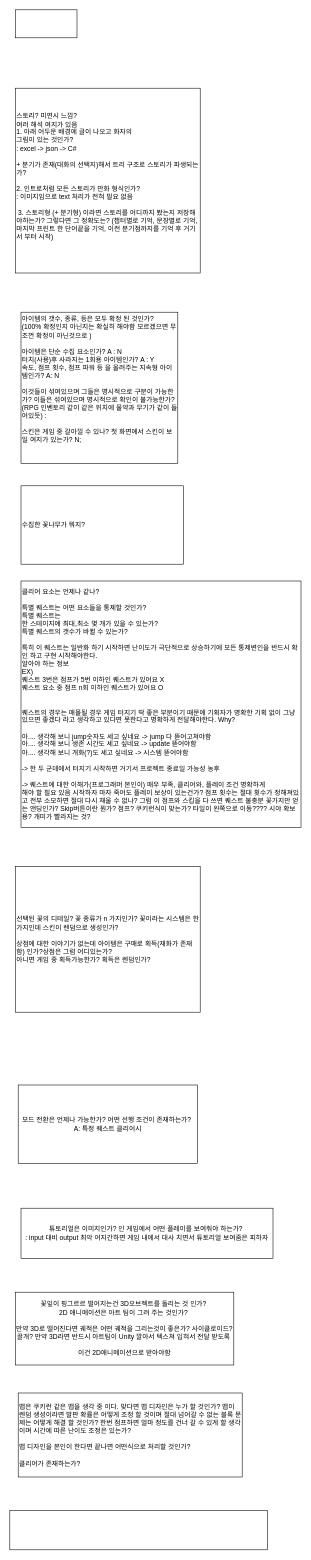
This 311x1560 diagram has some shape labels left out. The centre of each missing label's shape, as x and y in pixels:
"기획에게 물어볼 것" belongs at point (46, 23).
"아 이거 리듬 게임인가? 정확한 모션 않넣으면 앞으로 못가는 그런 류인가? 정확히 게임이 무슨 게임인가? 쿠키런 Like? 리듬게임 Like?" belongs at point (138, 1530).
